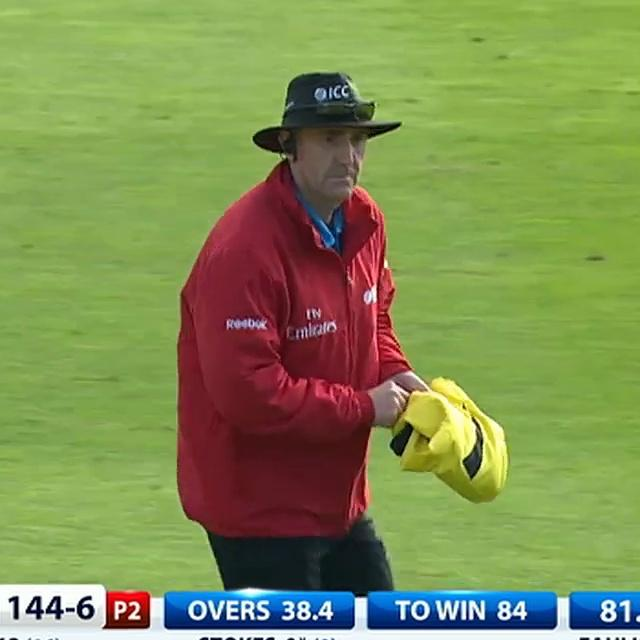umpire: (138, 49, 526, 595)
